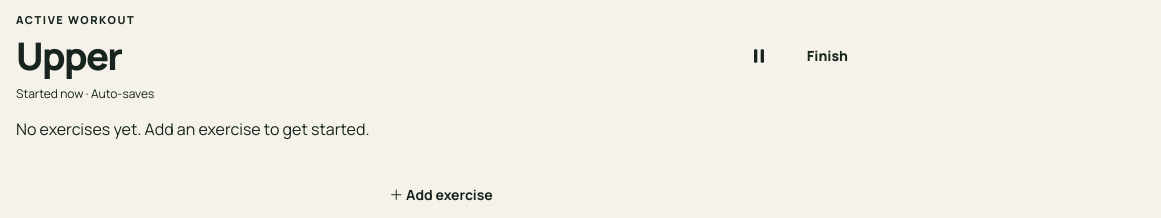
it: keeps the editor open and offers retry if pausing fails
Click the button named "Pause session": click(759, 56) [737,34,781,78]
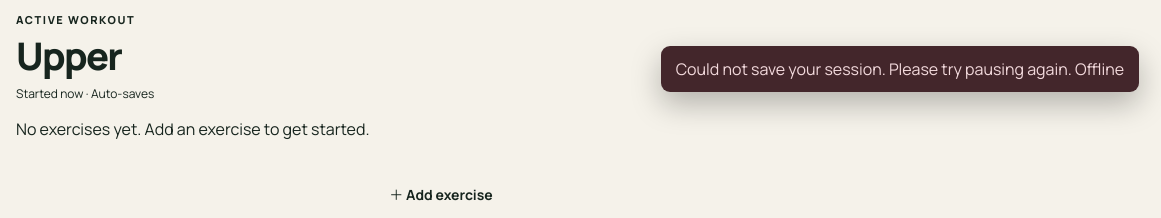
Expected: the message shows "Please try pausing again", [676,58,1124,80]
